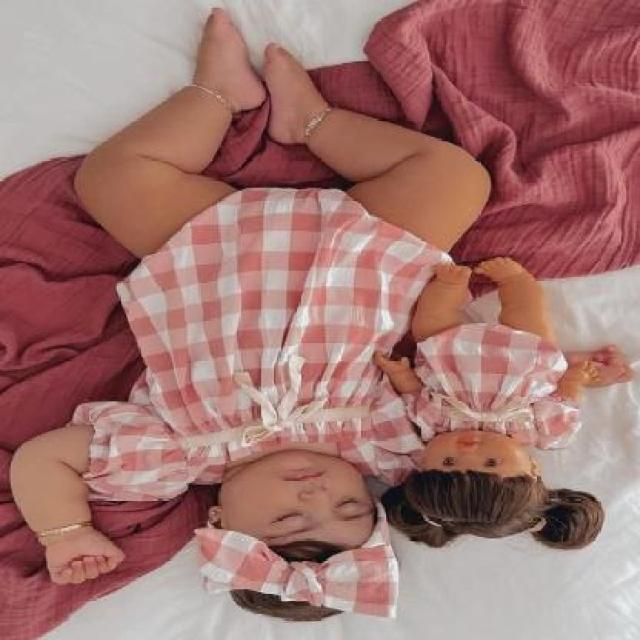baby: (6, 9, 635, 621)
